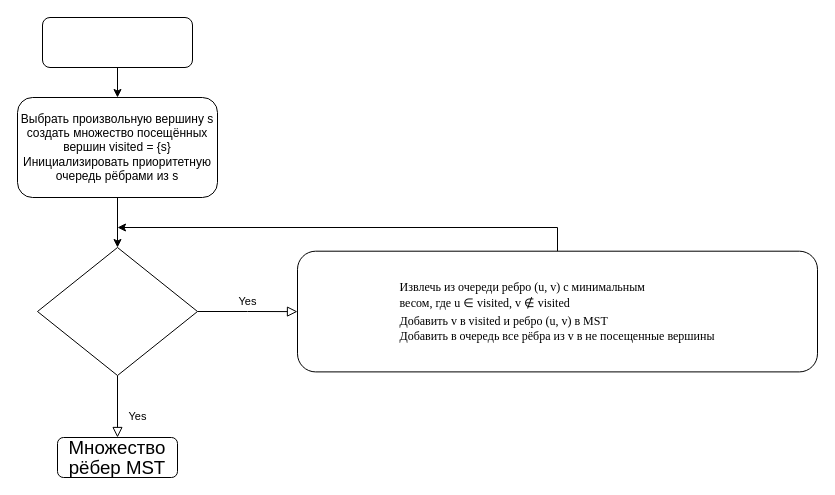
Some shapes in this 835 by 495 pixel diagram are drawn without their labels. The centre of each missing label's shape, as x and y in pixels:
visited ≠ V и очередь не пуста: (117,311)
Взвешенный неориентированный граф G = (V, E, w): (117,42)
